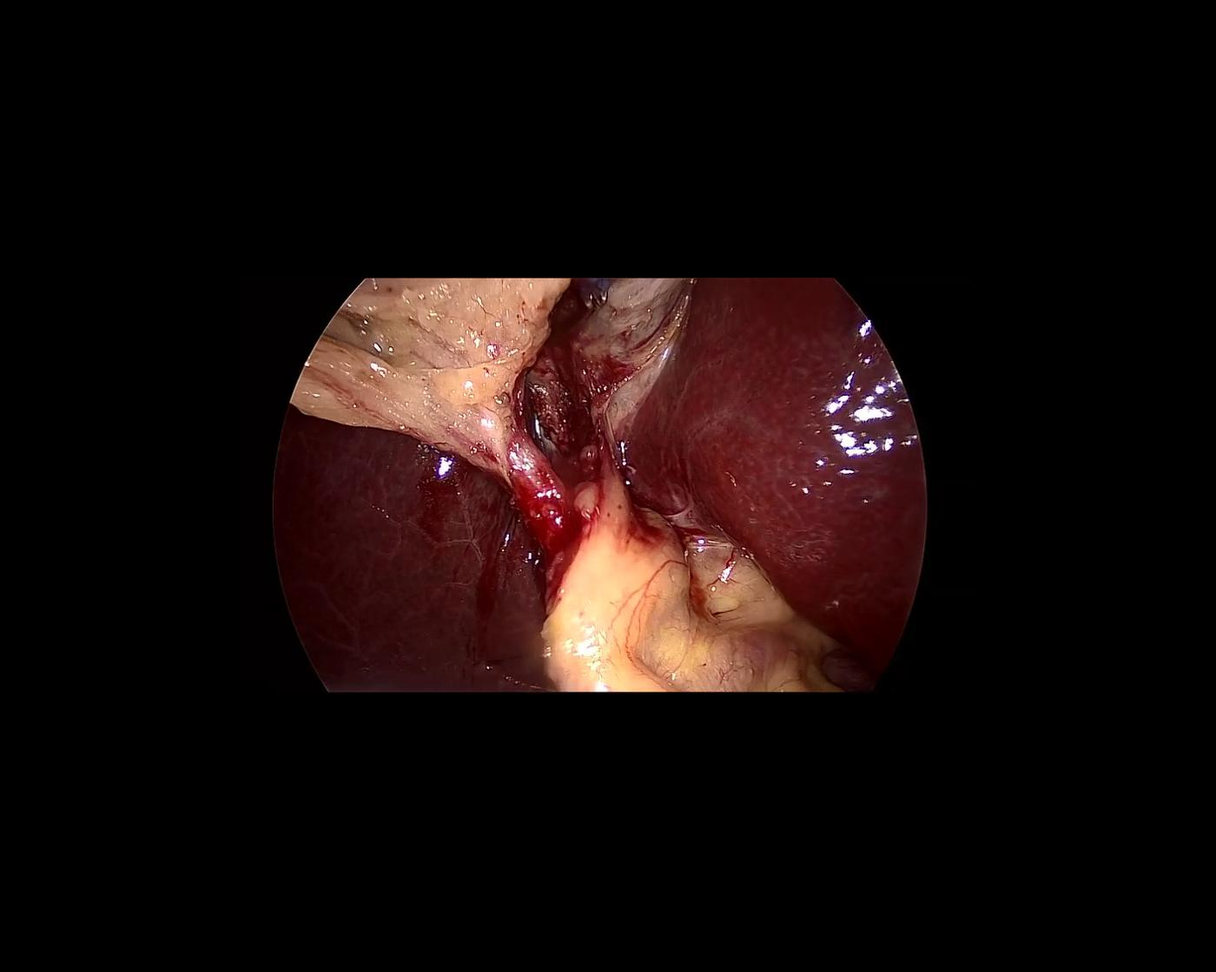Gallbladder: (288, 190, 576, 494)
Liver: (558, 215, 1054, 700), (276, 405, 541, 688)
